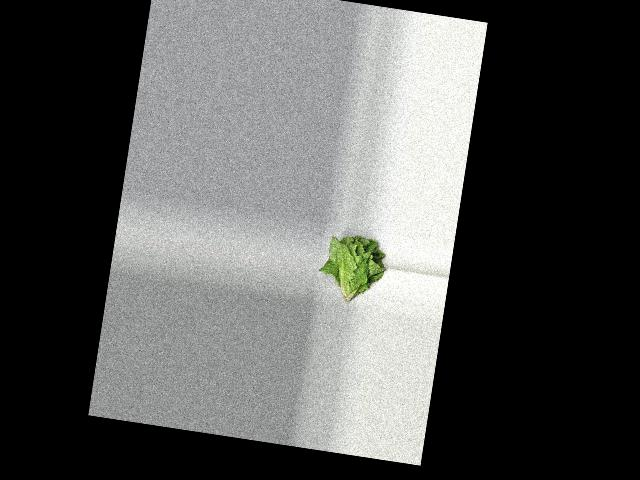lettuce: (316, 228, 393, 312)
